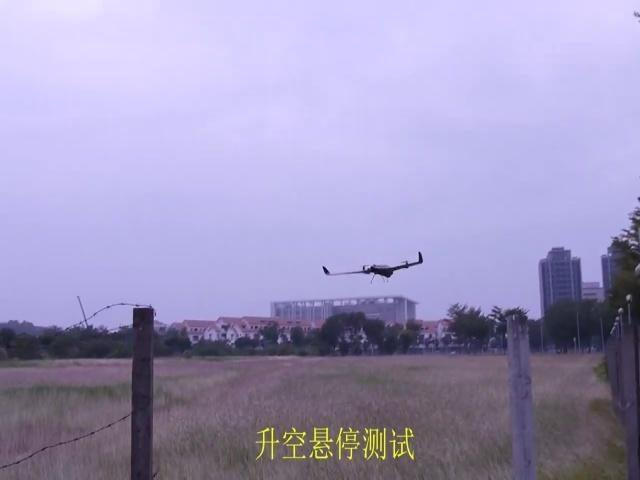Airplane: (322, 251, 424, 283)
